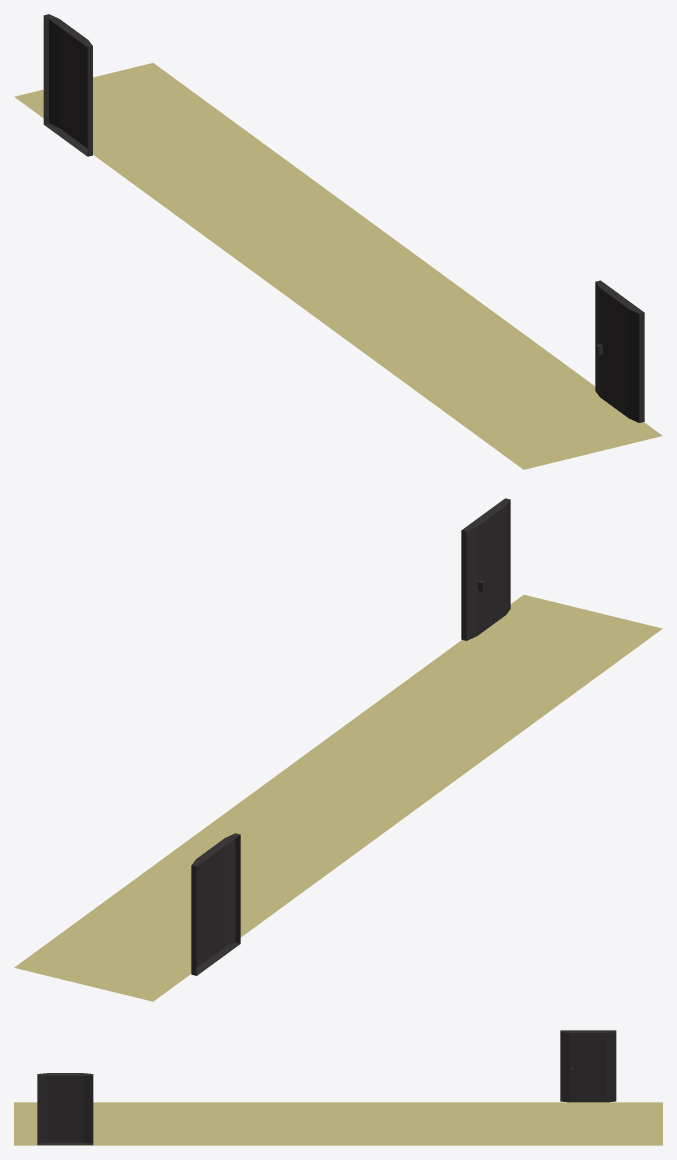
File: ByakkoStage3.fbx
The picture shows the model from 3 angles, top to bottom: view 1: azimuth 30°, elevation 25°; view 2: azimuth 150°, elevation 25°; view 3: azimuth 270°, elevation 25°; orthographic projection. The views are drawn at different scales.
Visible parts, largest first — view 1: Plane.056, Plane.031, Plane.030; view 2: Plane.056, Plane.030, Plane.031; view 3: Plane.056, Plane.030, Plane.031.
Boxes of the visible parts, <box> form: Plane.056: <box>14,63,662,469</box>; Plane.031: <box>43,14,92,156</box>; Plane.030: <box>595,280,644,422</box>; Plane.056: <box>14,595,662,1001</box>; Plane.030: <box>461,498,510,640</box>; Plane.031: <box>191,833,240,975</box>; Plane.056: <box>14,1102,662,1145</box>; Plane.030: <box>37,1073,93,1145</box>; Plane.031: <box>560,1030,616,1102</box>.
Size of the model in its own units: 13.71 by 9.85 by 82.82.
